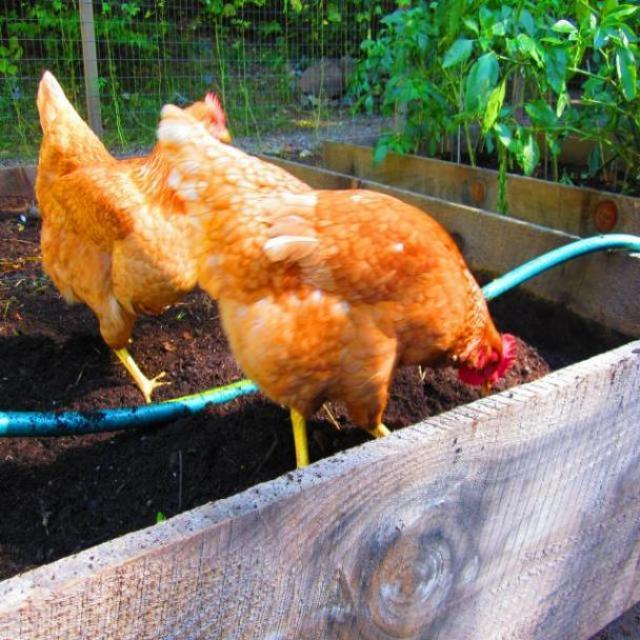Chicken: (162, 103, 515, 440), (34, 67, 230, 403)
